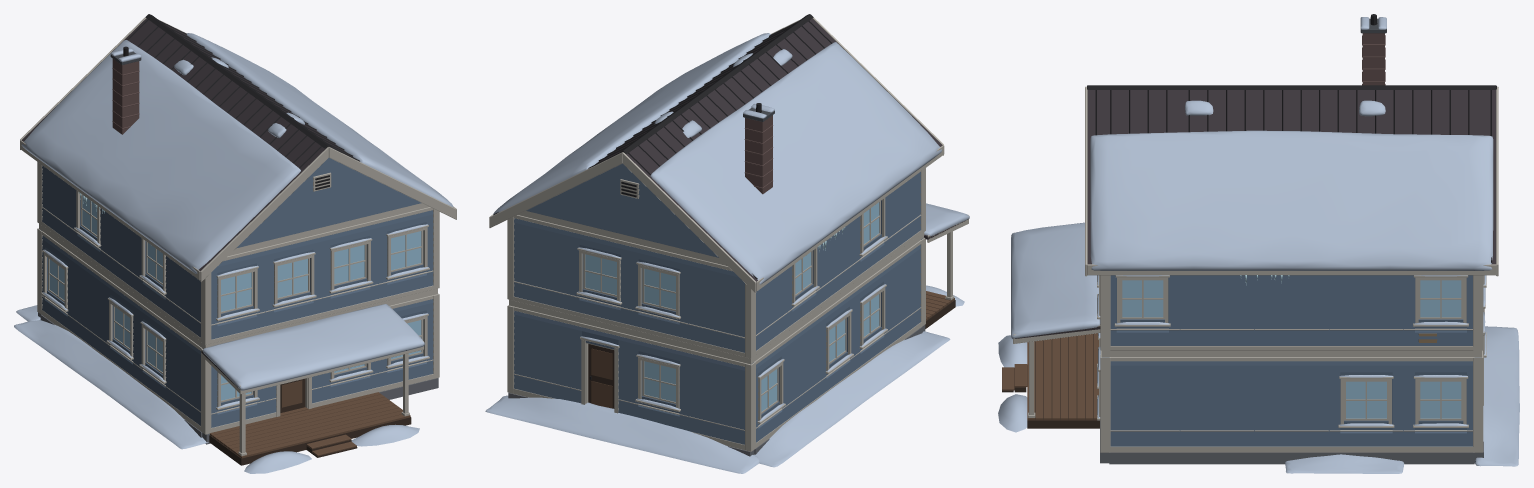
The model's file is house_two_story_A.glb.
The picture shows the model from 3 angles, left to right: view 1: azimuth 30°, elevation 25°; view 2: azimuth 150°, elevation 25°; view 3: azimuth 270°, elevation 25°; orthographic projection. The views are drawn at different scales.
Visible parts, largest first — view 1: Roof, Floor0, Walls1_S, Walls0_W, Walls1_W, Walls0_S, Floor1, Window_12, Window_9, Window_11, Window_10, Walls1_S_Stub (+3 smaller); view 2: Roof, Walls1_N, Walls0_N, Floor0, Walls0_W, Walls1_W, Floor1, Door_1, Window_14, Window_3, Window_13, Walls1_N_Stub (+1 smaller); view 3: Roof, Walls0_E, Walls1_E, Floor0, Floor1, Window_5, Window_16, Window_15, Window_4, Walls0_S, Walls0_N, Walls1_E_Stub (+3 smaller).
Part boxes in pixels (x1,y1,x2,y2): Roof: [20, 14, 456, 394]; Floor0: [14, 305, 438, 473]; Walls1_S: [201, 207, 439, 345]; Walls0_W: [41, 231, 201, 430]; Walls1_W: [41, 165, 200, 341]; Walls0_S: [201, 293, 439, 434]; Floor1: [39, 223, 437, 348]; Window_12: [391, 231, 421, 270]; Window_9: [221, 272, 251, 311]; Window_11: [334, 245, 364, 283]; Window_10: [277, 258, 307, 297]; Walls1_S_Stub: [201, 270, 439, 344]; Roof: [489, 14, 969, 292]; Walls1_N: [507, 215, 755, 358]; Walls0_N: [507, 305, 755, 451]; Floor0: [485, 231, 964, 473]; Walls0_W: [754, 240, 921, 447]; Walls1_W: [756, 171, 921, 354]; Floor1: [509, 232, 924, 364]; Door_1: [588, 344, 614, 408]; Window_14: [585, 254, 616, 295]; Window_3: [644, 361, 675, 401]; Window_13: [644, 268, 675, 309]; Walls1_N_Stub: [507, 281, 755, 358]; Roof: [1011, 14, 1498, 343]; Walls0_E: [1109, 357, 1474, 452]; Walls1_E: [1110, 275, 1473, 350]; Floor0: [998, 321, 1519, 473]; Floor1: [1101, 350, 1481, 356]; Window_5: [1420, 381, 1461, 418]; Window_16: [1420, 280, 1461, 317]; Window_15: [1122, 280, 1163, 317]; Window_4: [1346, 381, 1386, 418]; Walls0_S: [1097, 333, 1110, 452]; Walls0_N: [1473, 287, 1486, 452]; Walls1_E_Stub: [1110, 328, 1472, 332].
Size of what is drawn, in the model's own units: 9.85 by 10.1 by 14.
